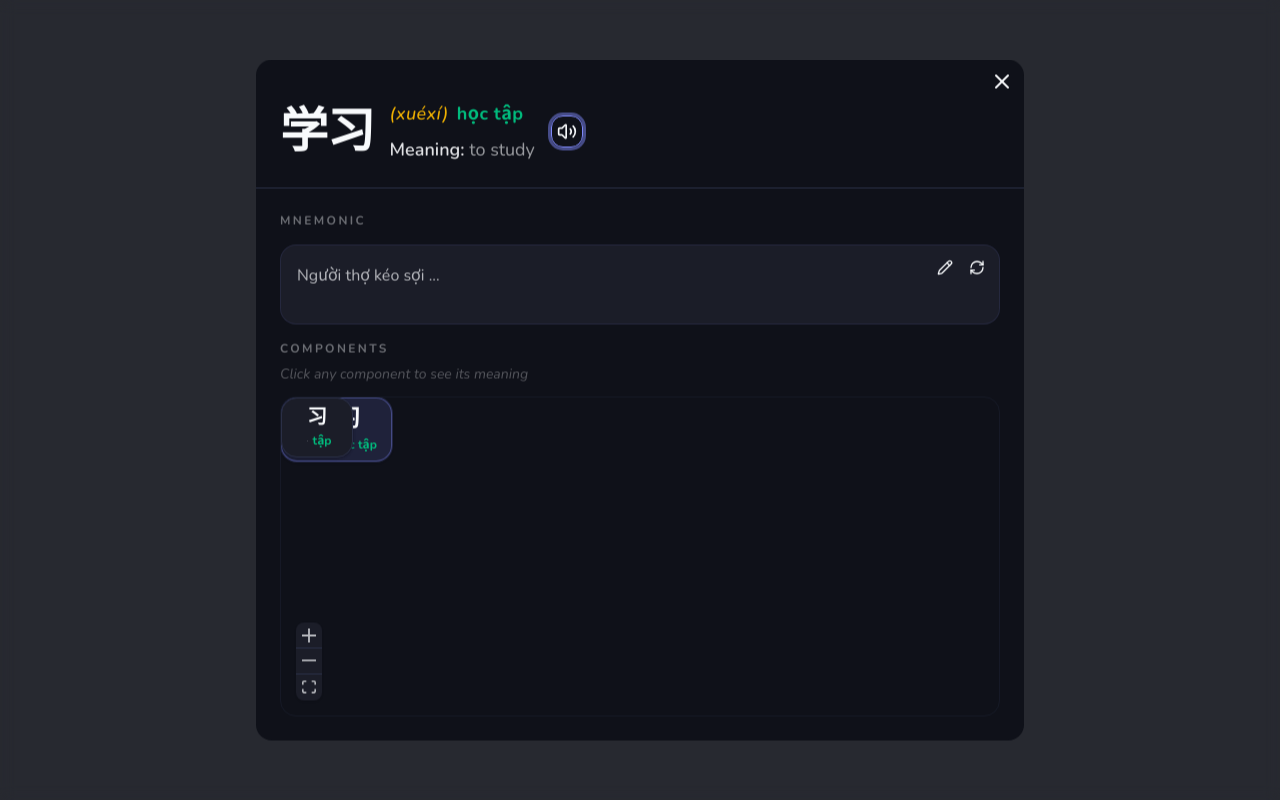
wordBreakdownModal › saves an edited story to the account
This screenshot has width=1280, height=800.
Expected: the text "Người thợ kéo sợi ..." is shown, [297,264,440,286]
Click the button named "Edit": (945, 268) [931,254,959,282]
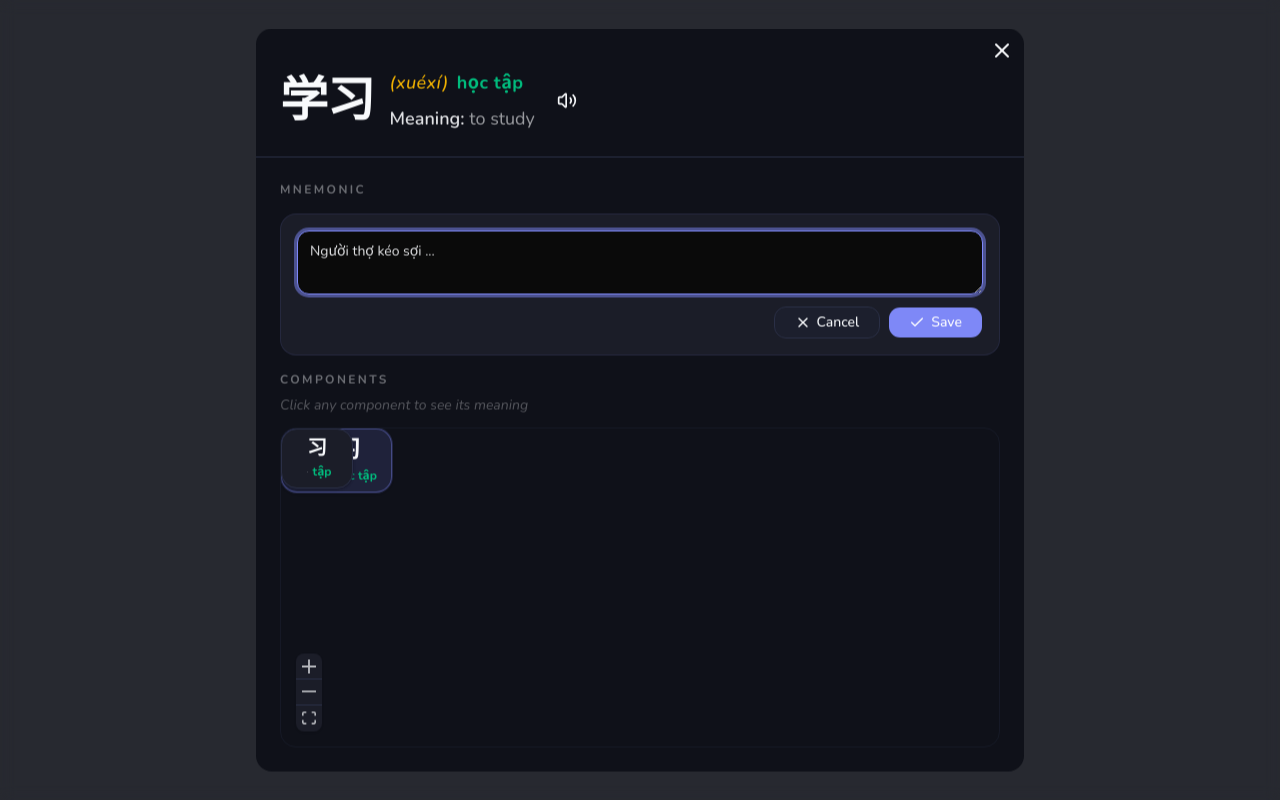
Replace the text in the text box with placeholder "Write your own mnemonic story…" with "Chuyện mới": (640, 262) [297,230,983,294]
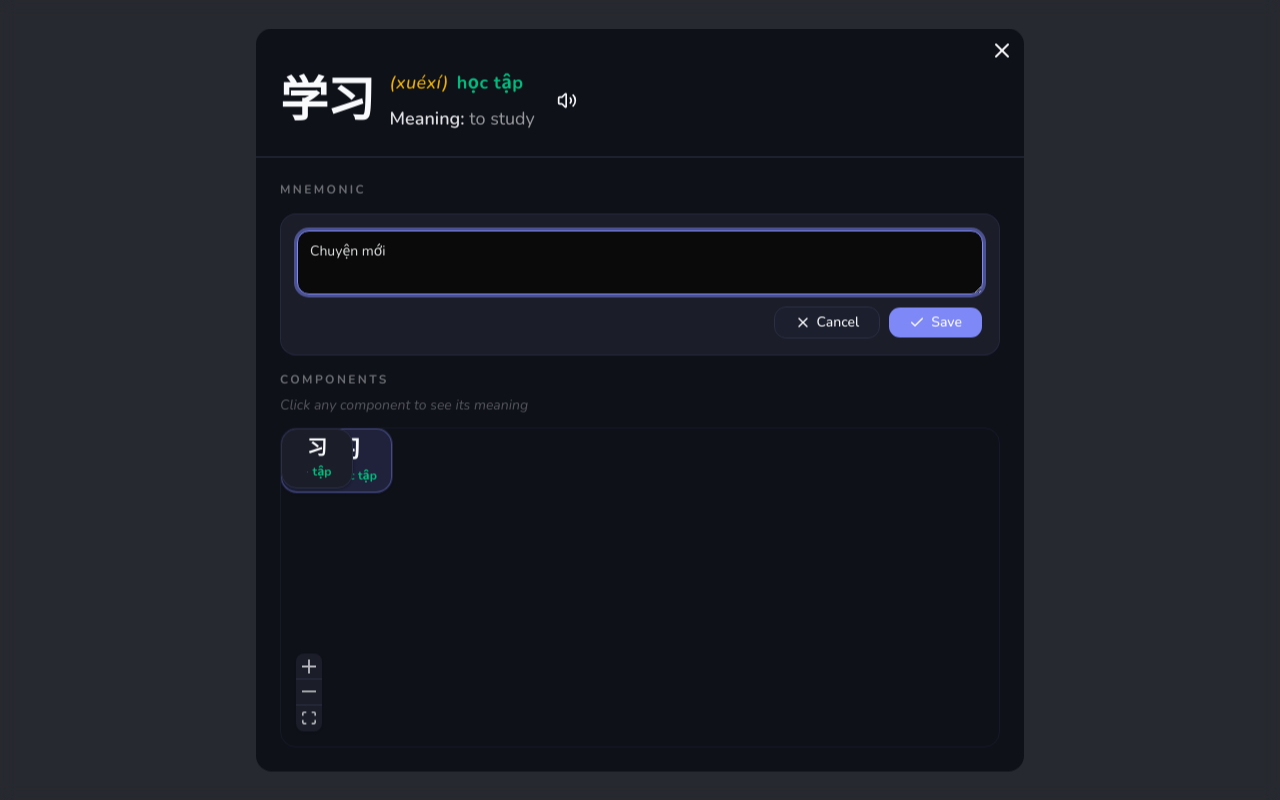
Click the button "Save": (936, 322) [888,306,983,338]
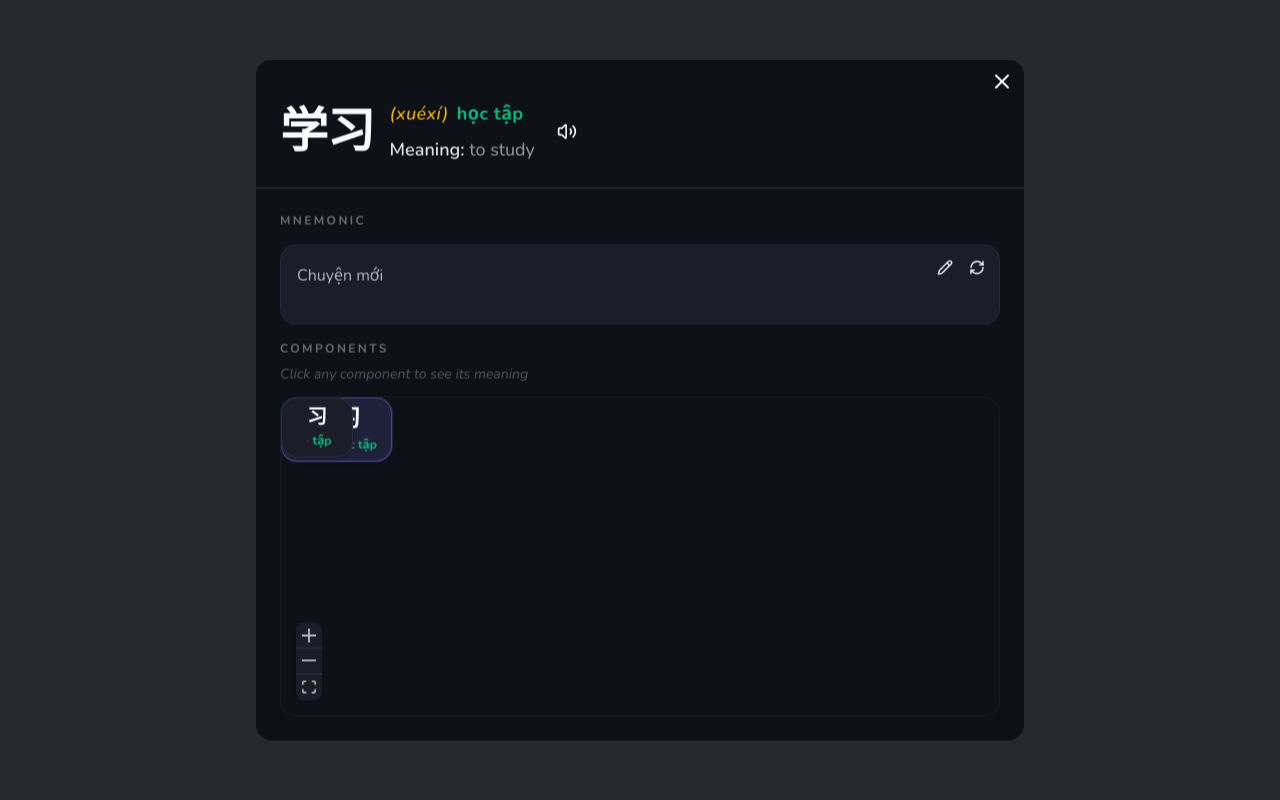
Result: the text "Chuyện mới" is shown at [297,264,383,286]
